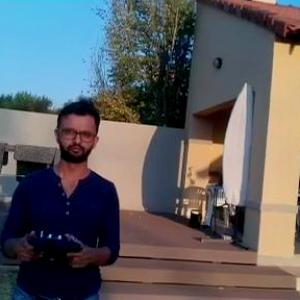follow: (0, 95, 124, 299)
